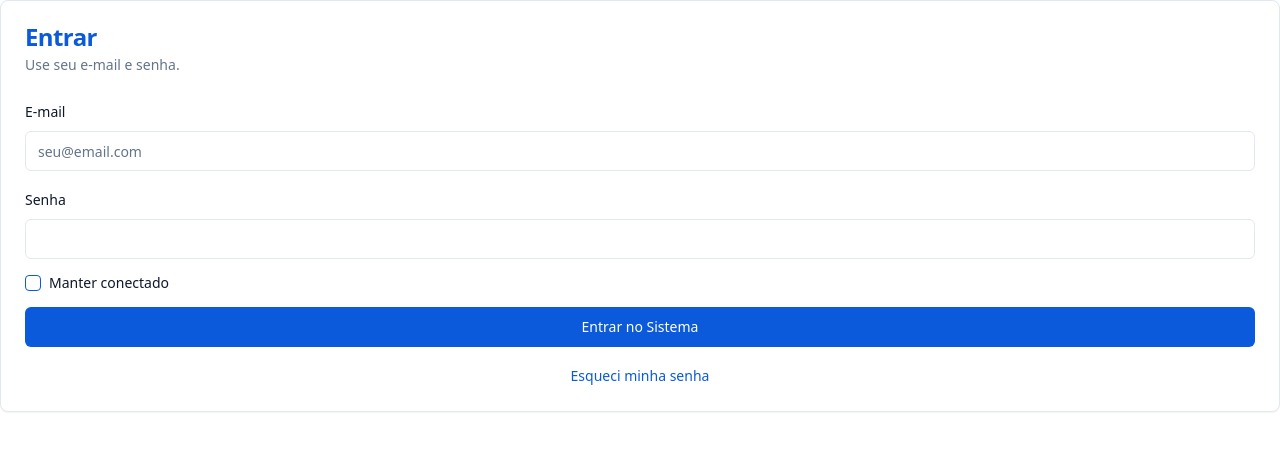
Test case: LoginForm › exibe formError retornado pela action
Step 1. Type "admin@meraki.dev" into the field labelled "E-mail" → x=640, y=151, box x1=25 y1=131 x2=1255 y2=171
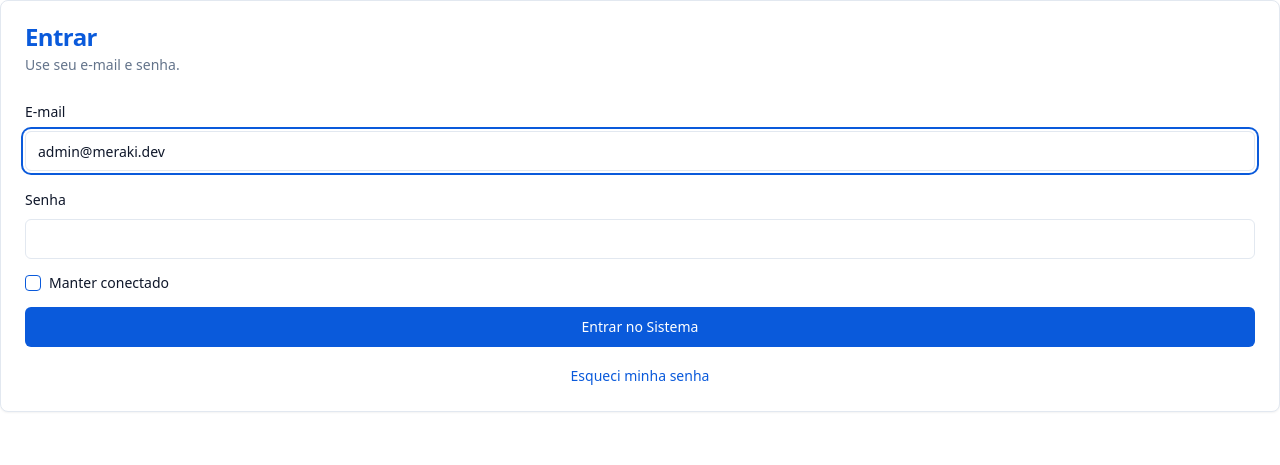
Step 2. Type "password123" into the password field labelled "Senha" → x=640, y=239, box x1=25 y1=219 x2=1255 y2=259
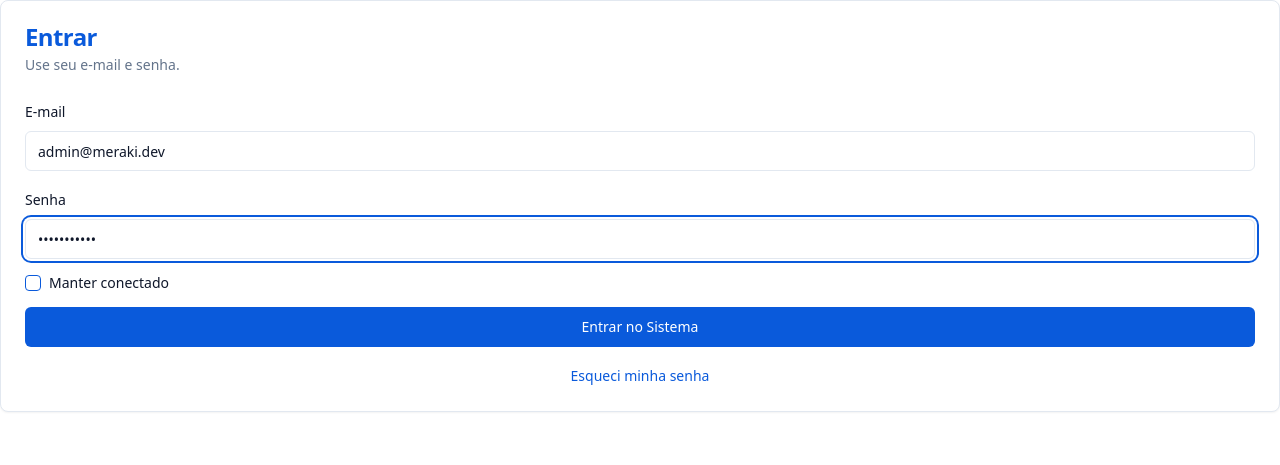
Step 3. Click the button "Entrar no Sistema" → x=640, y=327, box x1=25 y1=307 x2=1255 y2=347
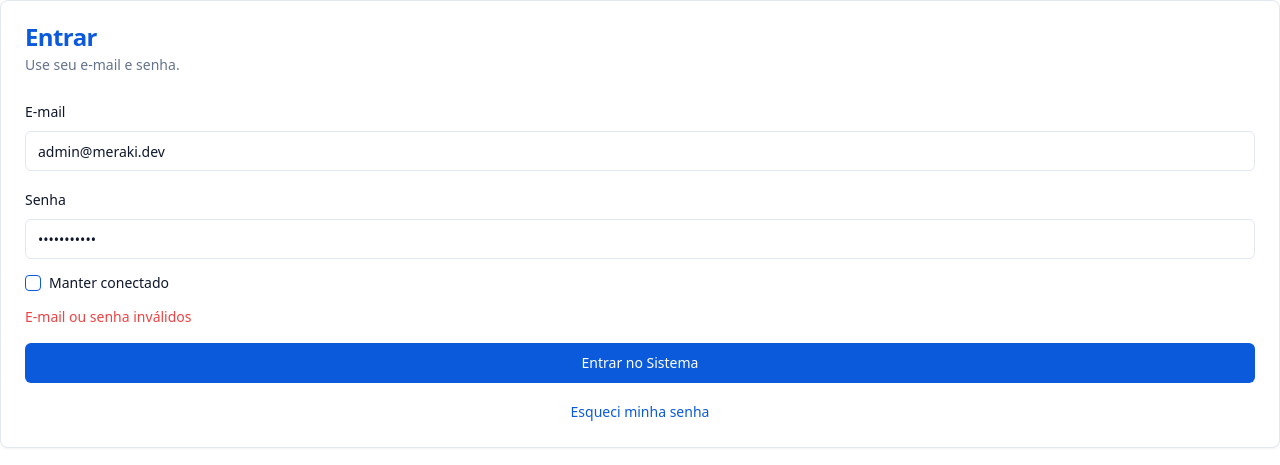
Now the message reads "E-mail ou senha inválidos", box x1=25 y1=307 x2=192 y2=326
